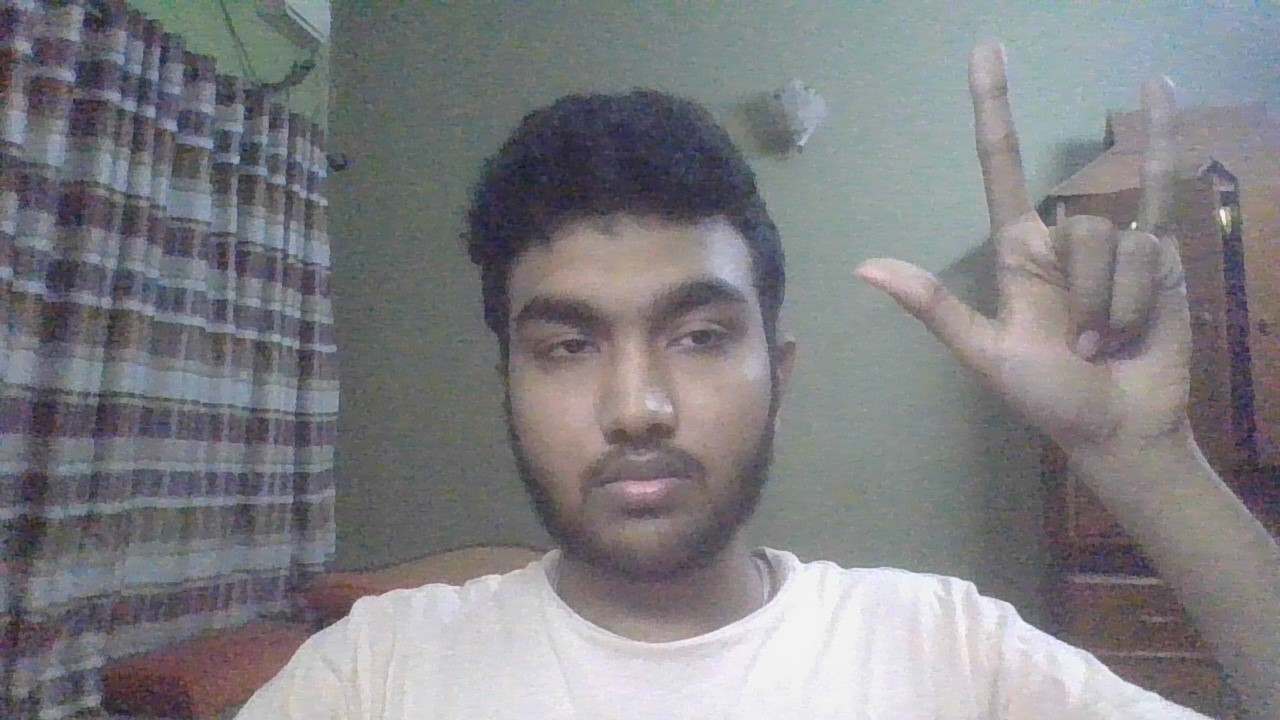I Love You: (866, 23, 1221, 458)
